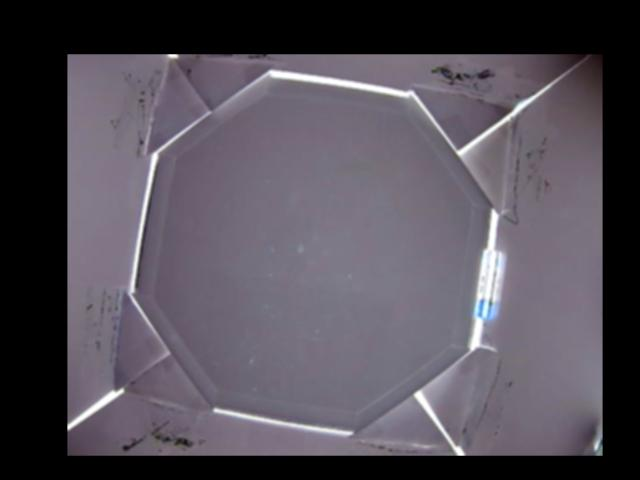Battery: (474, 249, 498, 320)
